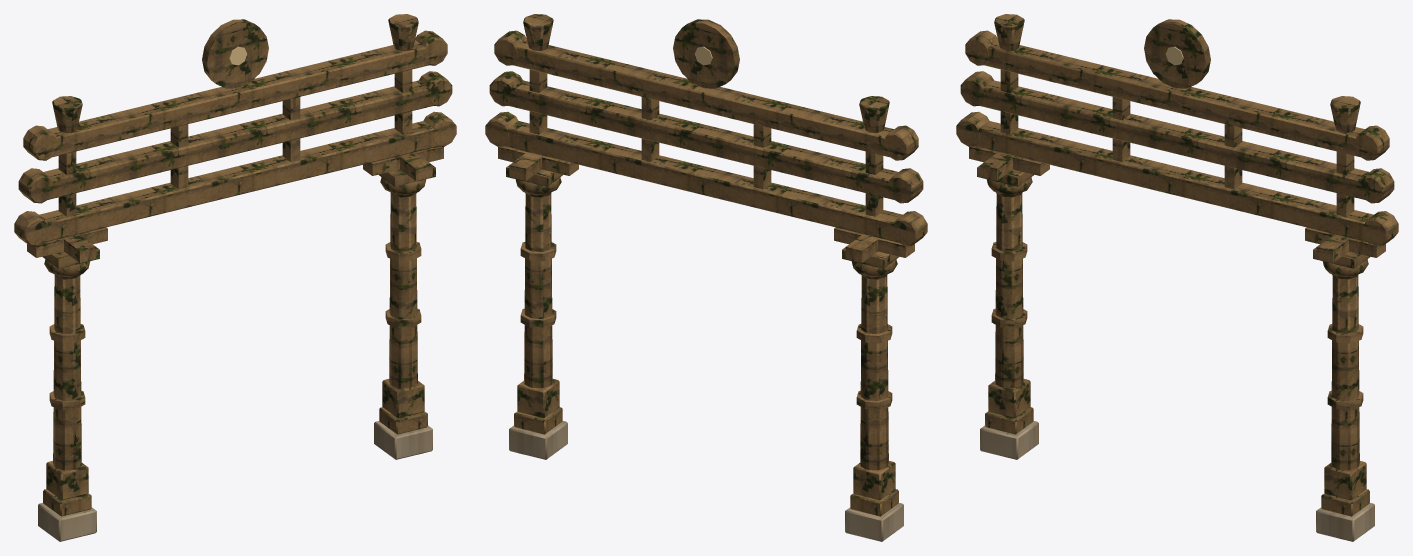
File: Torana_Big.fbx
The picture shows the model from 3 angles, left to right: view 1: azimuth 30°, elevation 25°; view 2: azimuth 150°, elevation 25°; view 3: azimuth 330°, elevation 25°; orthographic projection.
Parts seen in each view (by area): view 1: Torana_Big_LOD0; view 2: Torana_Big_LOD0; view 3: Torana_Big_LOD0.
Part boxes in pixels (bbox=[...]): Torana_Big_LOD0: bbox=[14, 14, 456, 541]; Torana_Big_LOD0: bbox=[485, 14, 927, 541]; Torana_Big_LOD0: bbox=[956, 14, 1398, 541].
Size of what is drawn, in the model's own units: 9.77 by 10.1 by 1.62.
